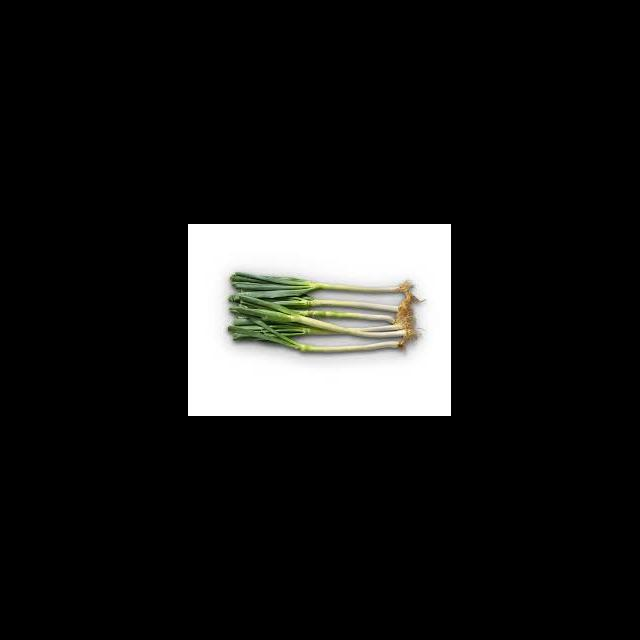green_onion: (228, 272, 424, 353)
